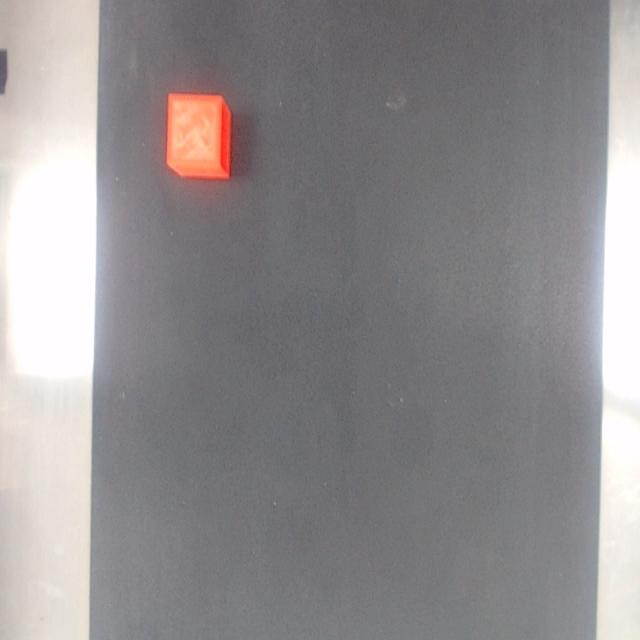Rojo: (166, 93, 229, 177)
